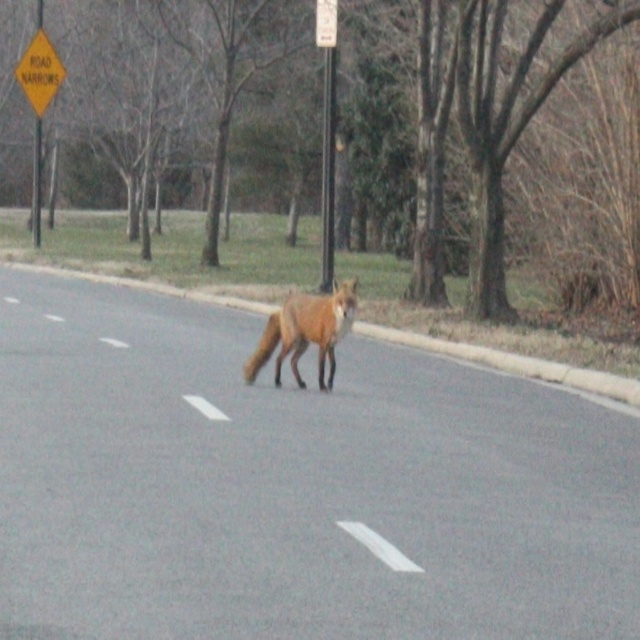Fox: (240, 275, 358, 395)
